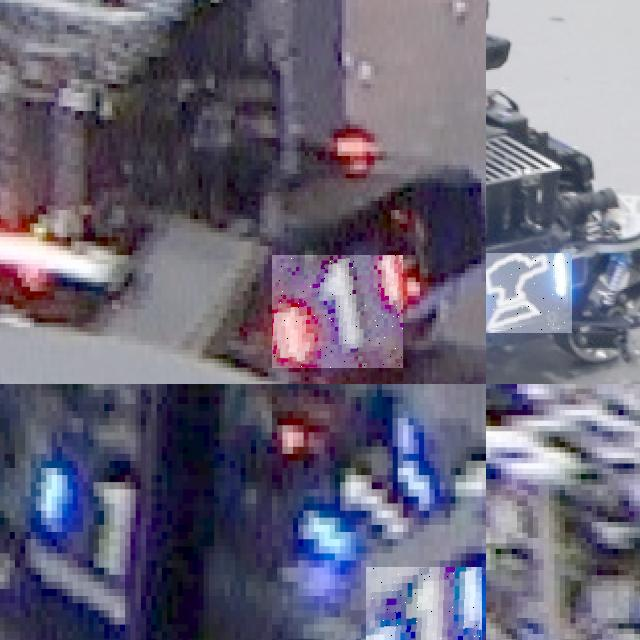B1: (298, 461, 435, 567), (366, 567, 481, 640)
Bs: (486, 253, 572, 333)
R1: (272, 255, 403, 368)
